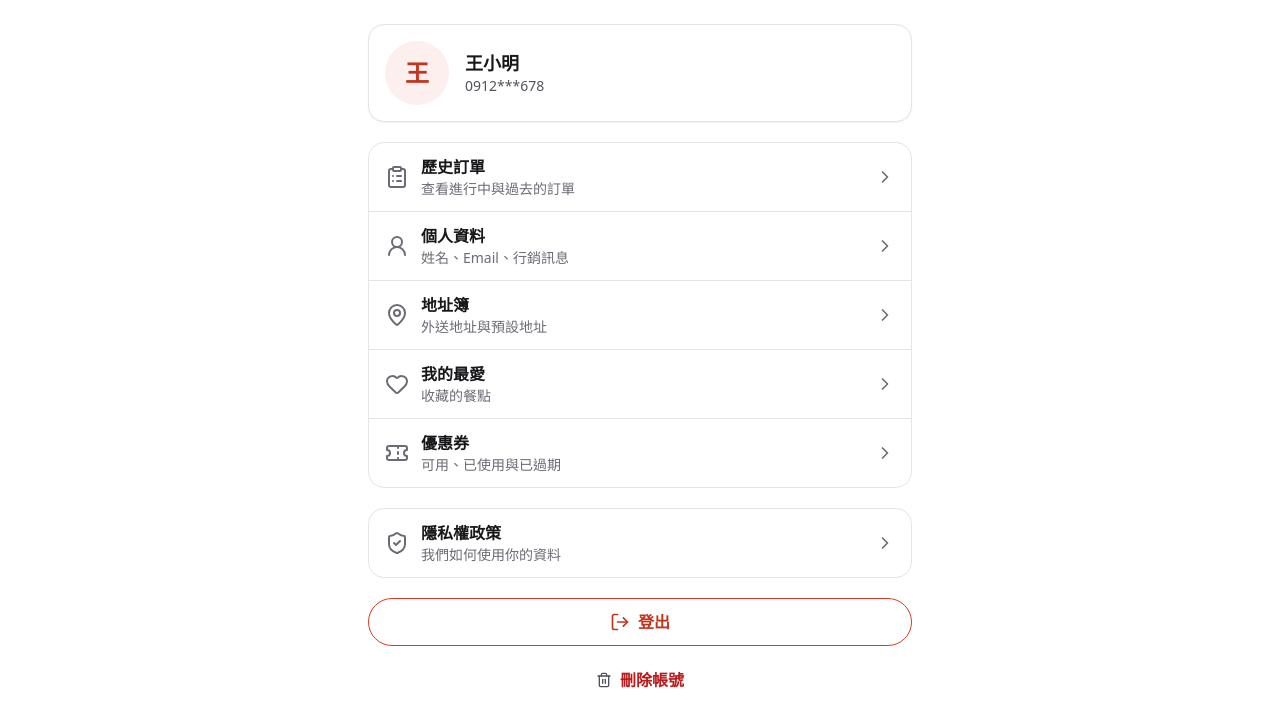
Scenario: AccountPage › 取消登出：不呼叫 API
Step 1. Click the button "登出" → (640, 622), box [368,598,912,646]
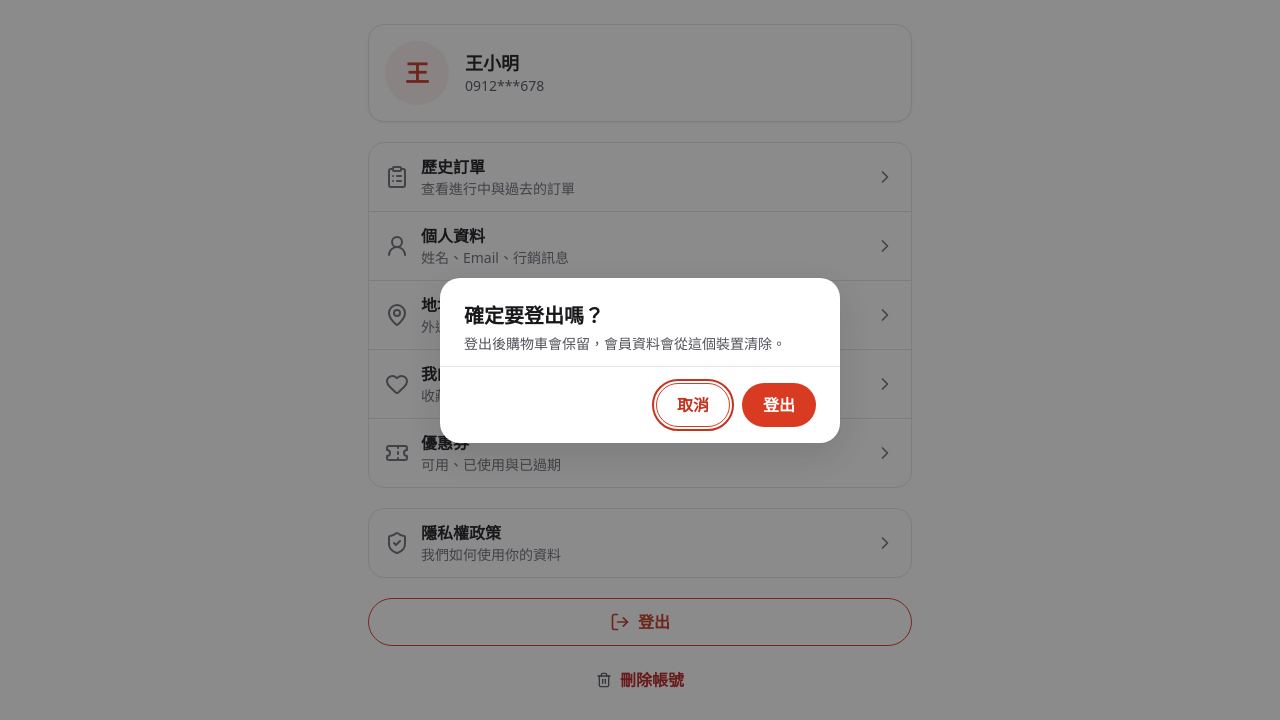
Step 2. Click the button "取消" → (693, 404), box [656,382,730,426]
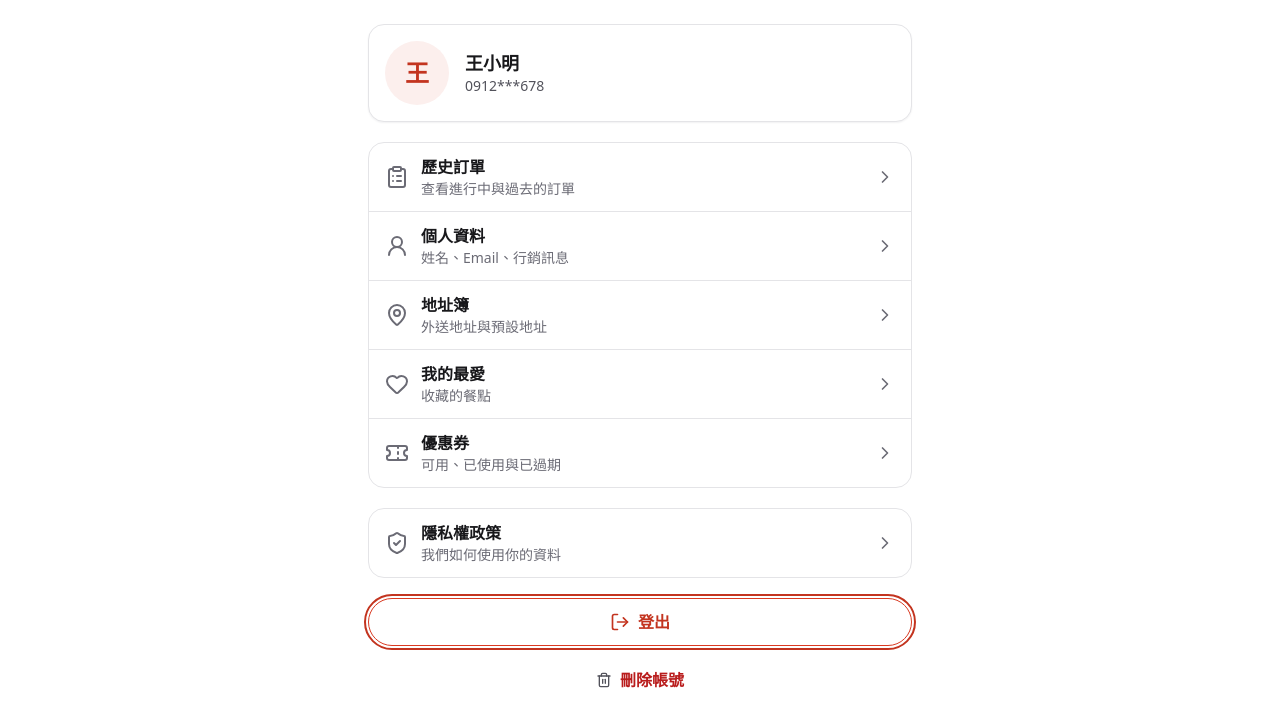
Expected: the dialog is gone
